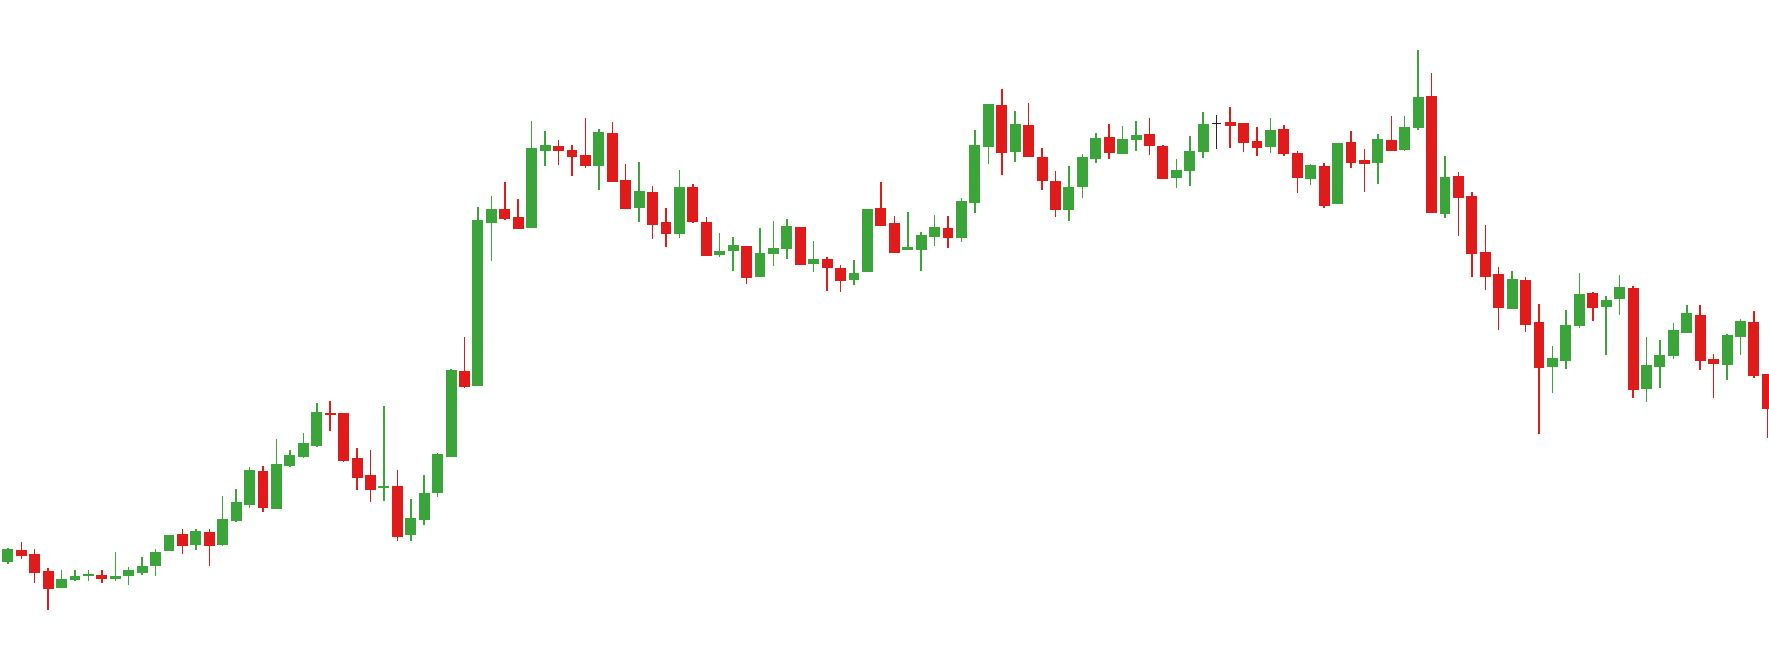buy: (243, 441, 431, 543)
